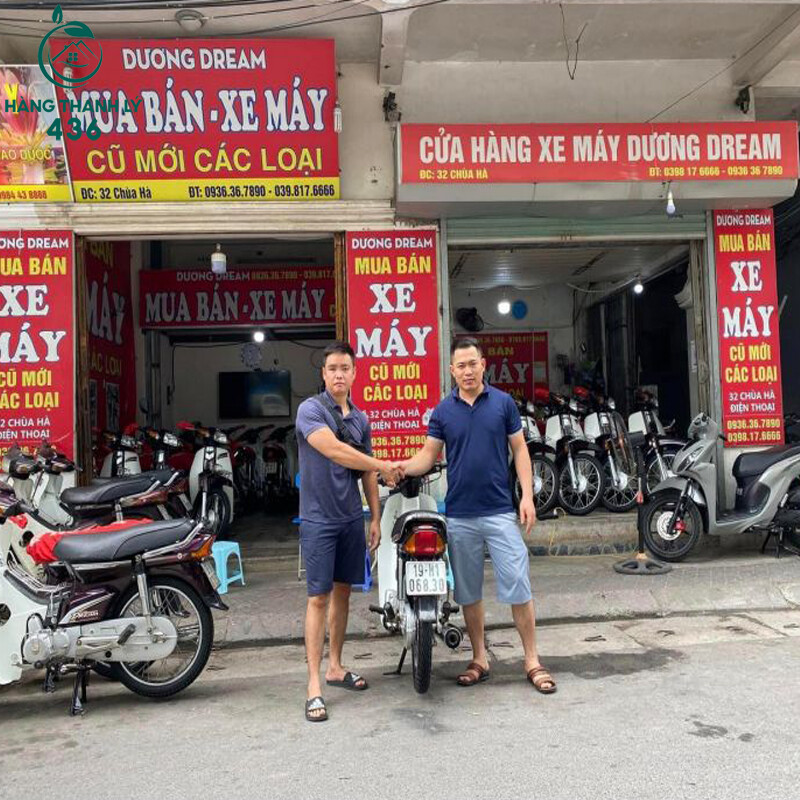bien_so: (403, 558, 452, 599)
